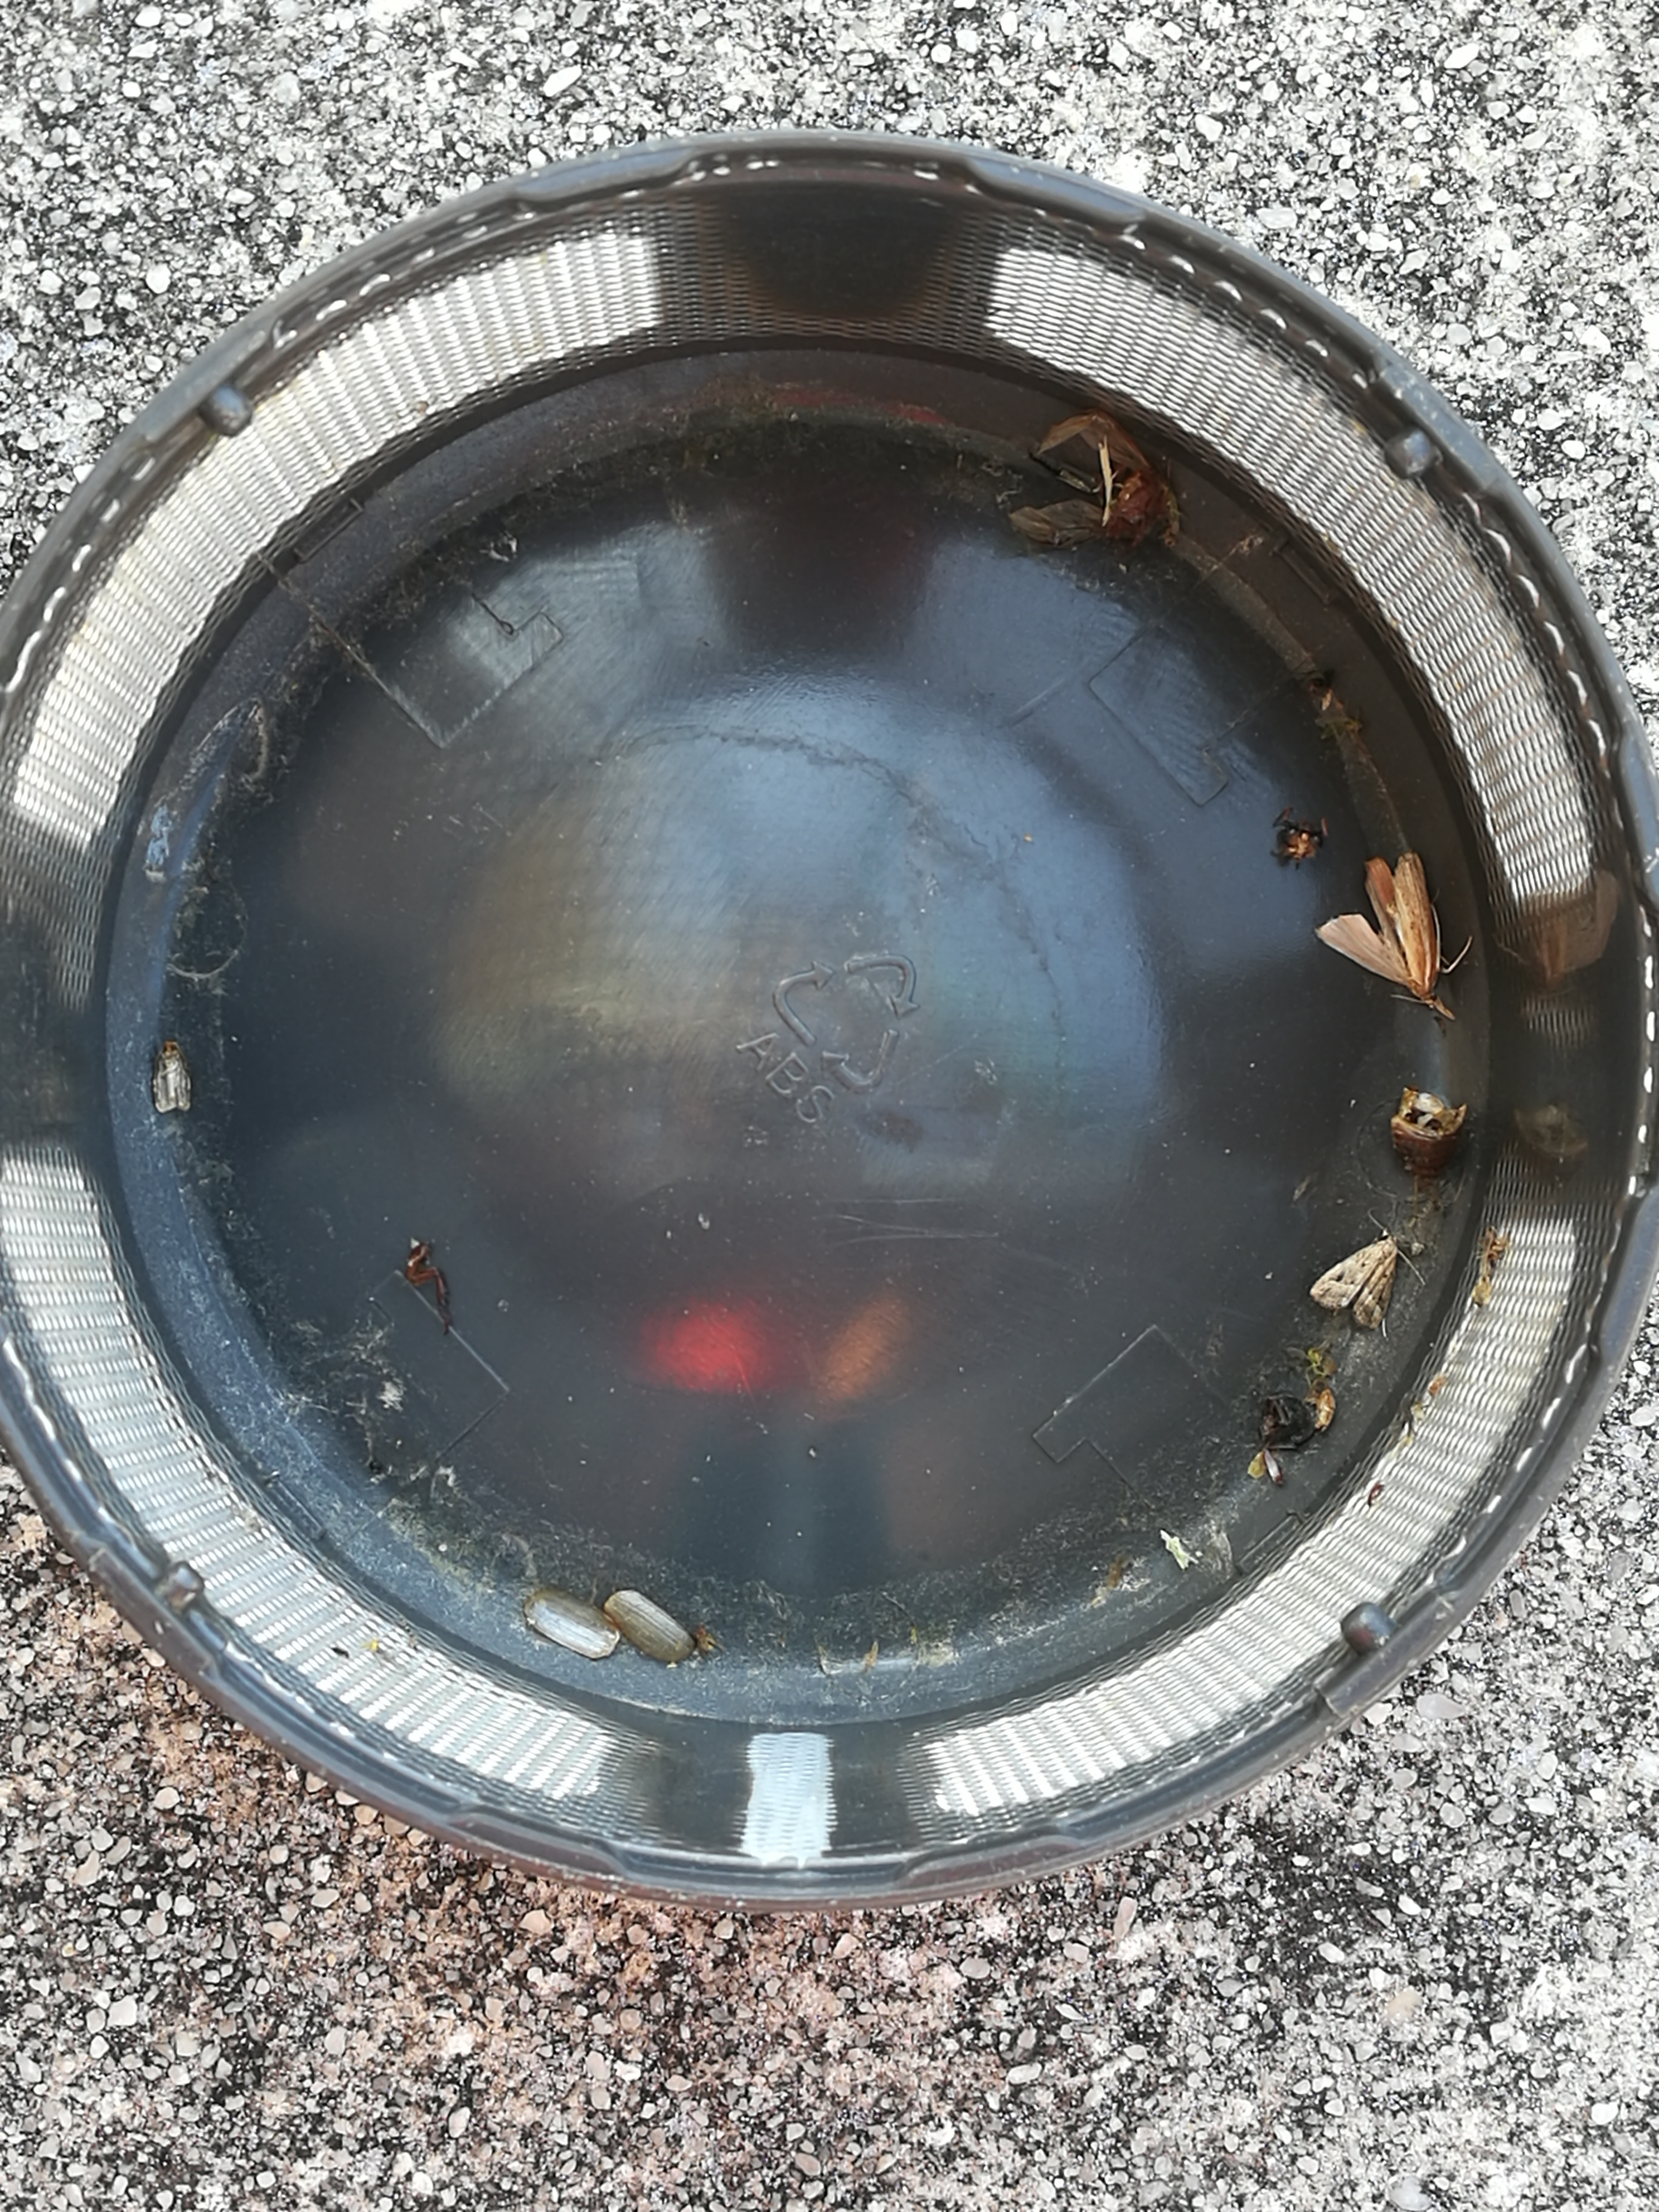beetle: (1098, 462, 1182, 545)
mosquito: (1317, 1390, 1333, 1430)
moth: (1317, 852, 1441, 1000), (1310, 1240, 1398, 1329), (155, 1040, 192, 1113)
